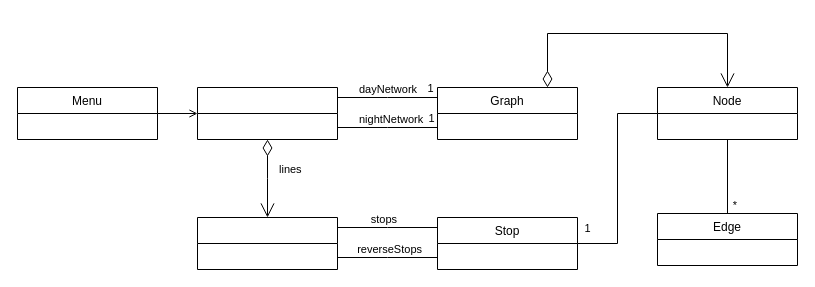
Some shapes in this 815 by 287 pixel diagram are drawn without their labels. Here are the shapes that lost their labels. From the top down, the centre of each, then its label:
At (x=267, y=113): "BusCompany".
At (x=267, y=243): "BusLine".
